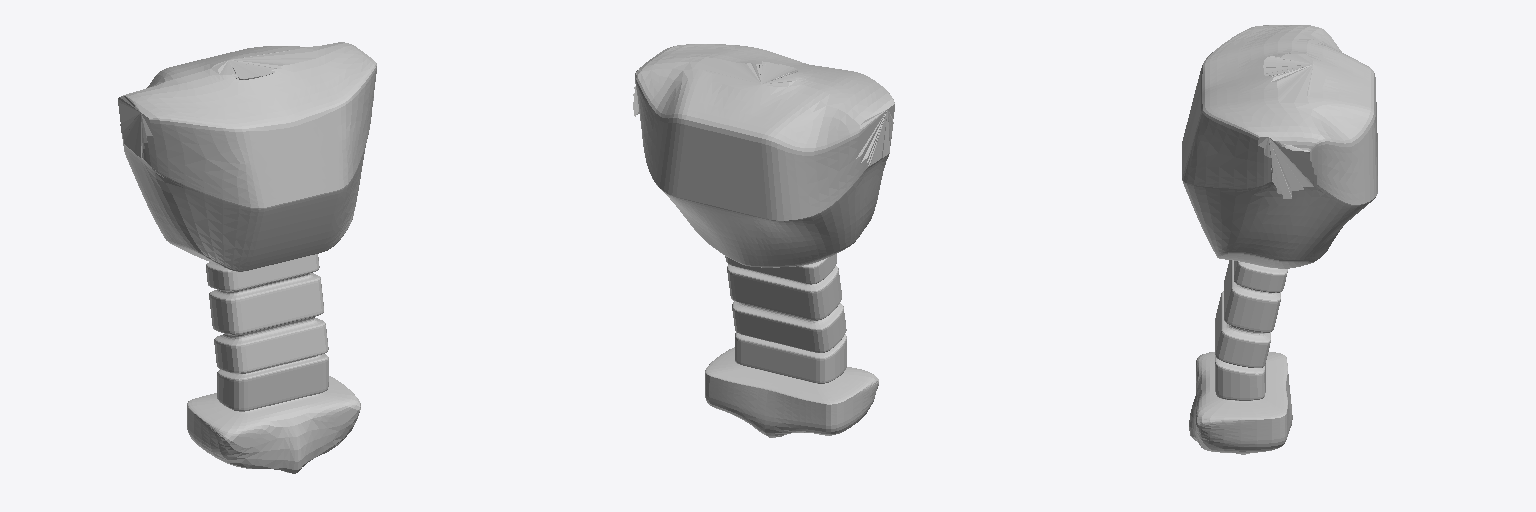
Rendered from Tronco.obj.
The picture shows the model from 3 angles: view 1: azimuth 30°, elevation 25°; view 2: azimuth 150°, elevation 25°; view 3: azimuth 270°, elevation 25°; orthographic projection.
Visible parts, largest first — view 1: Cyborg.Mesh_Cube; view 2: Cyborg.Mesh_Cube; view 3: Cyborg.Mesh_Cube.
Boxes of the visible parts, box(x1,y1,x2,y2) form: Cyborg.Mesh_Cube: box(118, 42, 376, 473); Cyborg.Mesh_Cube: box(633, 44, 894, 437); Cyborg.Mesh_Cube: box(1182, 25, 1377, 454).
Size of the model in its own units: 2.38 by 3.59 by 1.7.